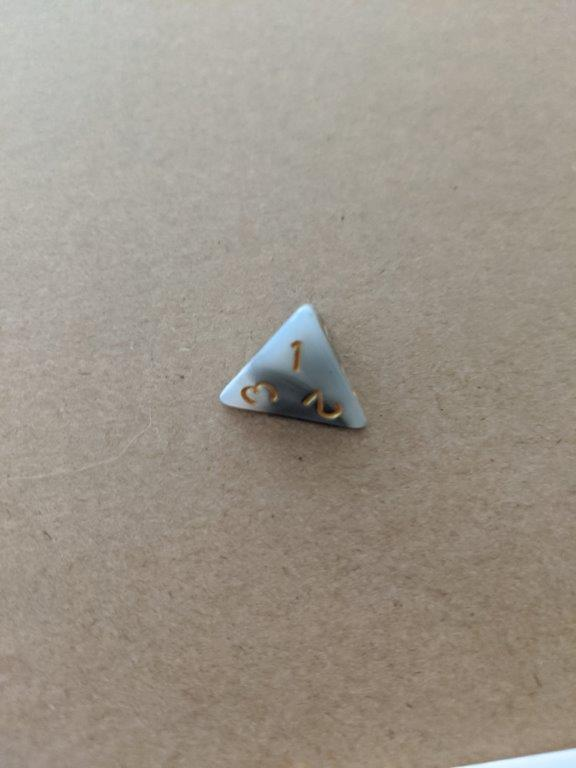d4-1: (214, 296, 372, 439)
